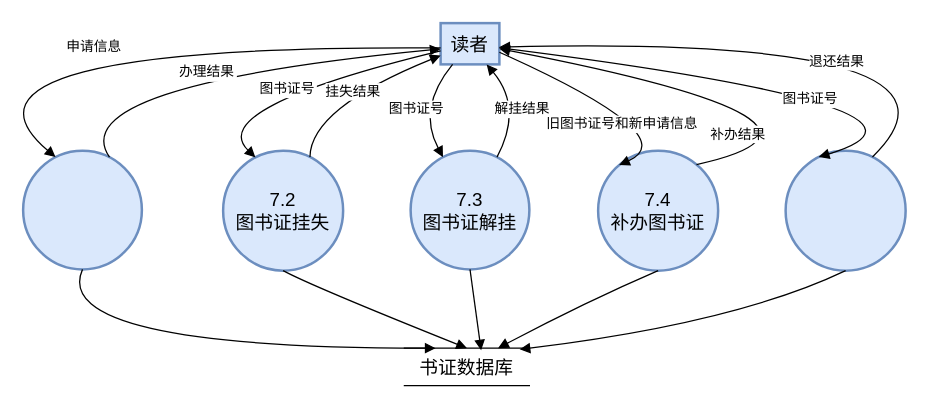
The diagram is 928 pixels wide and 408 high, and some of its shapes have lost their labels. The centre of each missing label's shape, as x and y in pixels:
"7.1 办理图书证" goes at pixel 81 209.
"7.5 退还图书证" goes at pixel 845 210.
